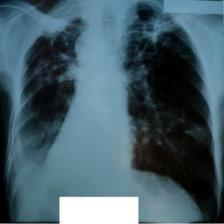tuberculosis: (7, 0, 222, 222)
